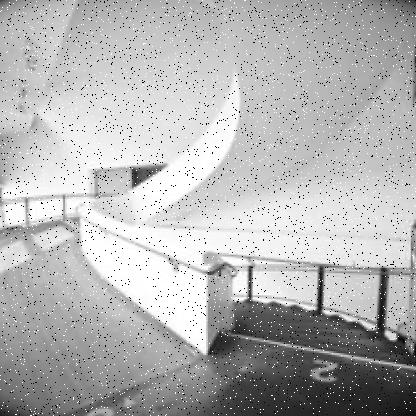stair_down: (219, 235, 416, 378)
